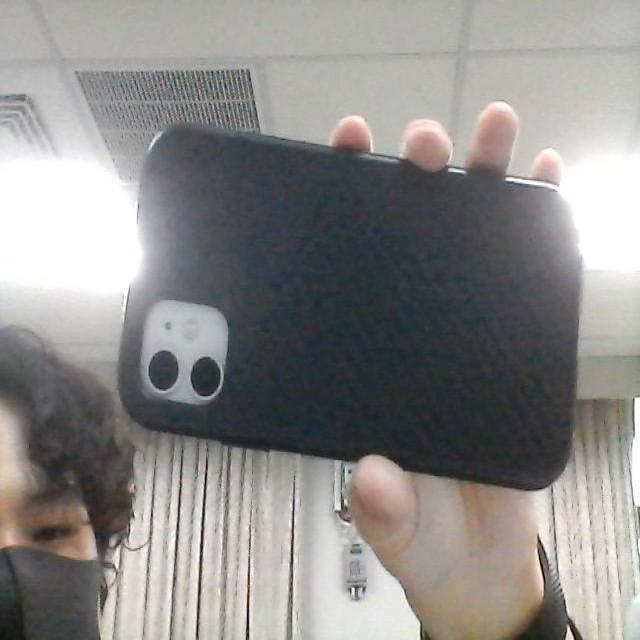Phone: (116, 120, 584, 497)
